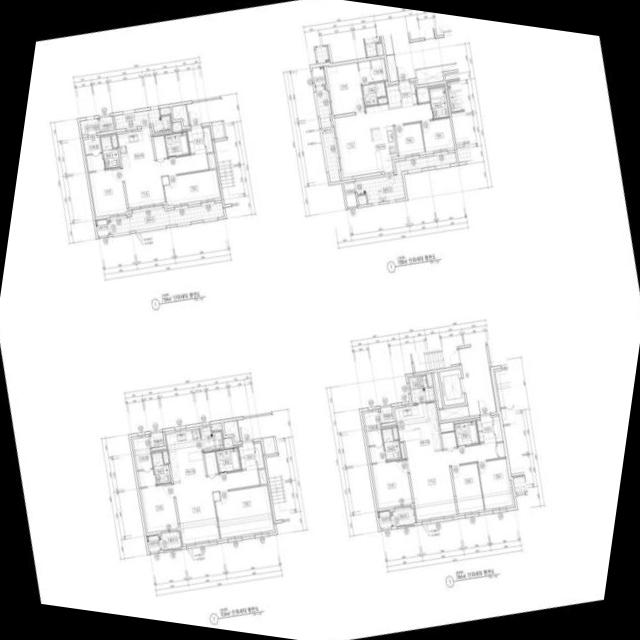background: (0, 0, 640, 640)
space_balconi: (355, 152, 456, 203), (108, 202, 224, 234), (315, 85, 340, 182), (114, 108, 171, 131), (409, 375, 434, 403), (200, 426, 223, 451), (390, 506, 415, 526), (159, 531, 181, 550), (79, 118, 99, 135)
space_bedroom: (215, 485, 273, 538), (326, 62, 365, 115), (164, 169, 220, 205), (371, 459, 412, 508), (140, 483, 178, 532), (89, 168, 127, 217), (477, 458, 513, 509), (451, 463, 484, 513), (421, 117, 454, 151), (395, 122, 425, 155)
space_dressroom: (132, 436, 155, 487), (363, 411, 385, 463), (84, 135, 104, 171), (358, 58, 386, 83)
space_elevator: (439, 368, 465, 405)
space_elevator_hall: (459, 344, 496, 416)
space_front: (238, 441, 264, 470), (187, 125, 212, 155), (476, 414, 495, 443), (399, 80, 417, 107)
space_kitchen: (395, 402, 442, 454), (166, 428, 206, 482), (117, 126, 155, 166), (370, 125, 397, 172)
space_living_room: (334, 102, 432, 177), (407, 441, 498, 520), (173, 468, 260, 544), (122, 152, 208, 207)
space_other: (439, 405, 469, 420), (433, 372, 443, 408), (223, 420, 239, 442), (172, 104, 188, 126), (344, 181, 357, 207), (153, 135, 167, 159), (204, 451, 218, 475), (386, 85, 401, 107), (492, 416, 503, 442), (441, 431, 457, 448), (379, 406, 394, 423), (99, 116, 114, 132), (262, 436, 275, 454), (149, 432, 164, 447), (416, 87, 430, 103), (211, 121, 224, 138), (207, 153, 215, 168), (497, 442, 505, 457), (258, 469, 266, 484), (357, 194, 367, 205), (159, 107, 171, 115), (162, 450, 169, 463), (223, 438, 232, 448), (111, 135, 118, 147), (172, 123, 181, 132), (400, 443, 405, 458), (392, 427, 398, 439), (426, 374, 432, 386), (211, 424, 221, 431), (378, 97, 387, 104)
space_outdoor_room: (377, 510, 392, 528), (312, 66, 326, 85), (146, 534, 160, 552), (95, 219, 109, 236)
space_toilet: (151, 451, 171, 484), (216, 447, 241, 473), (454, 420, 479, 446), (100, 136, 120, 168), (429, 86, 449, 118), (382, 427, 401, 460), (165, 131, 189, 157), (362, 81, 386, 106)
